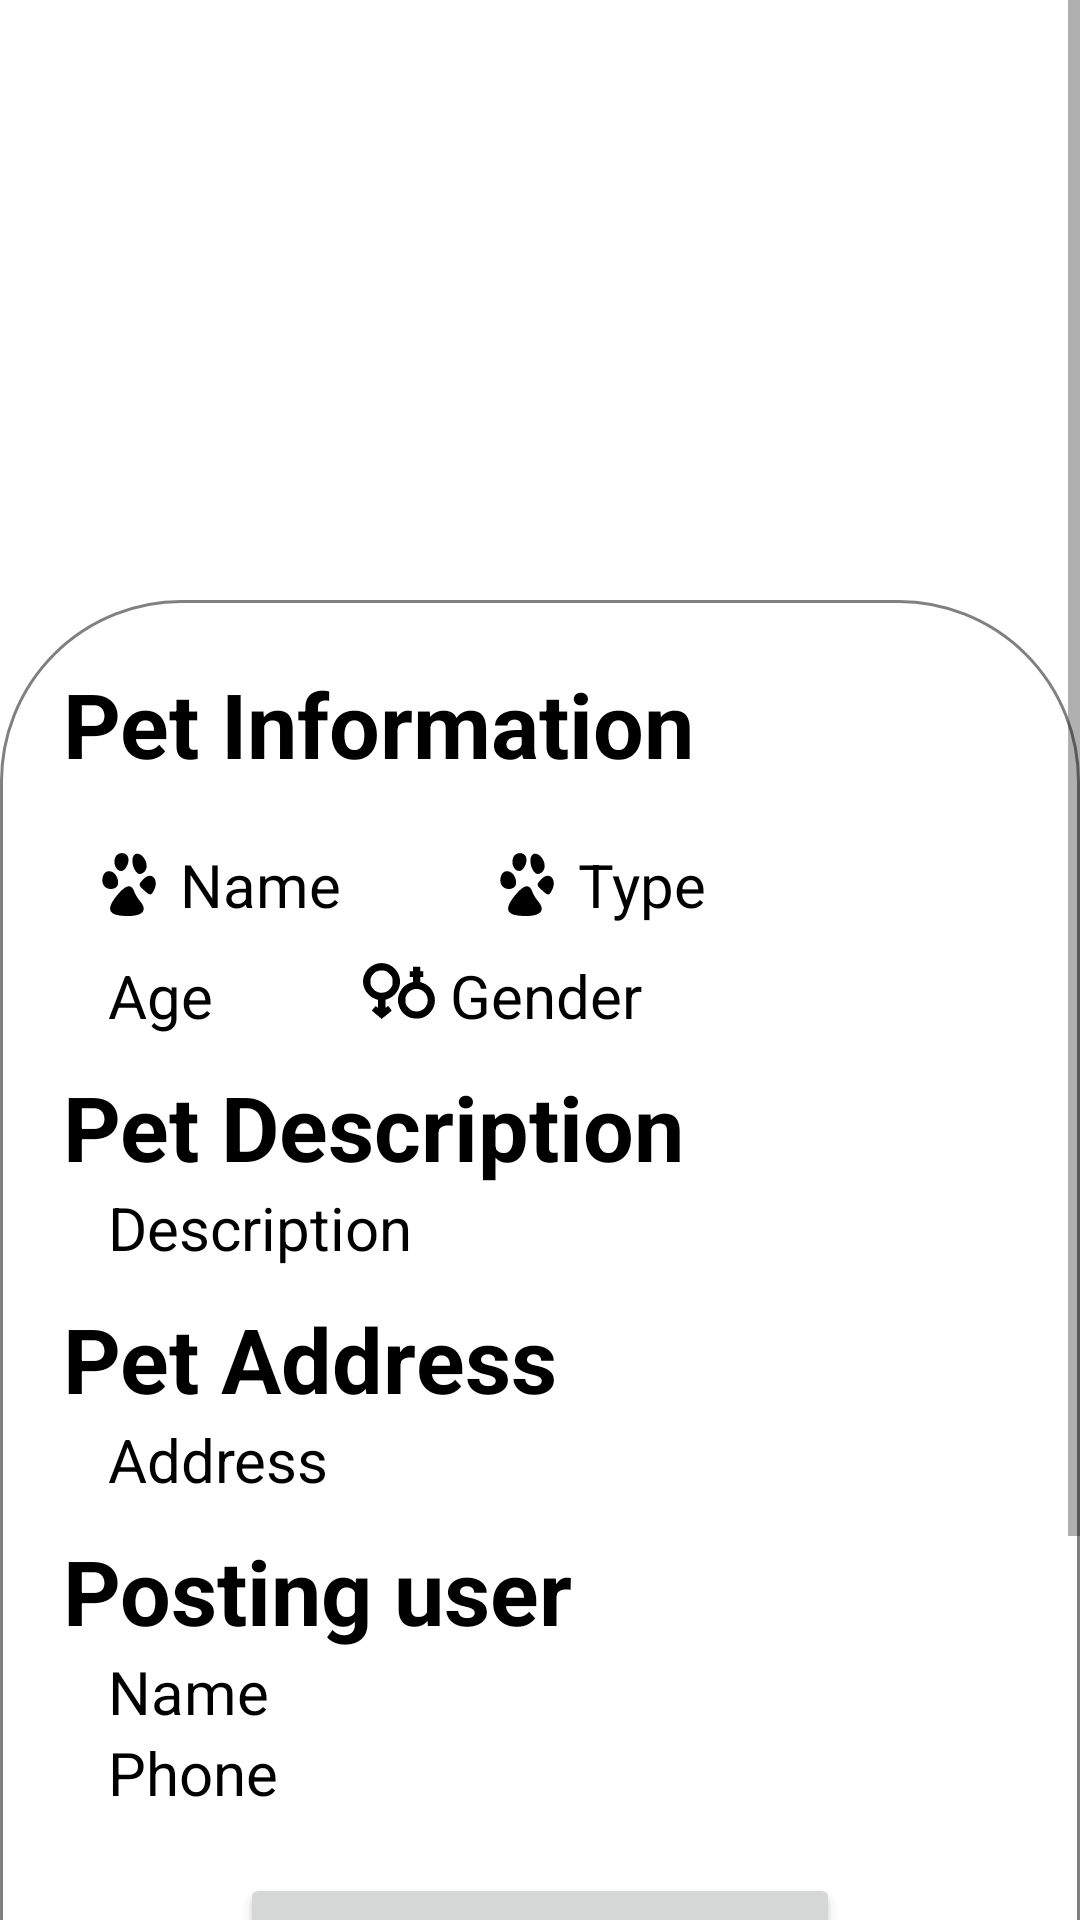

Locate icon controls on the screen. Image size 1080x1920, boxes as BBox(x1, y1, x2, y2).
dog paw: BBox(102, 853, 156, 916), BBox(500, 853, 554, 916)
